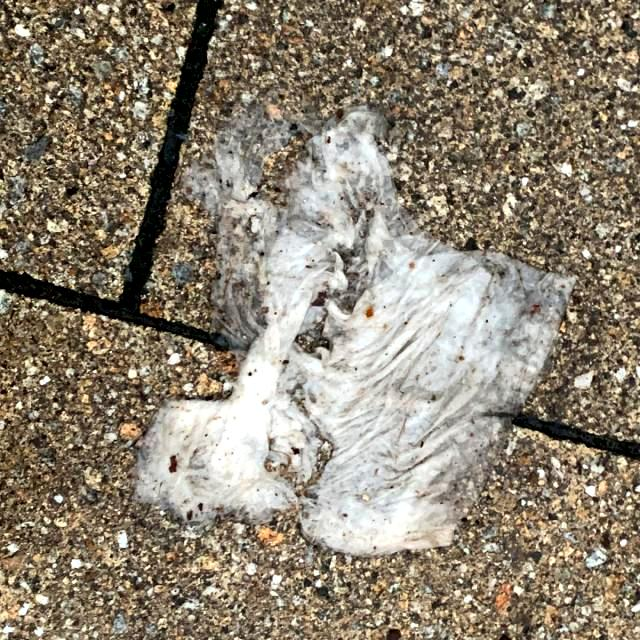Paper: (134, 90, 578, 558)
